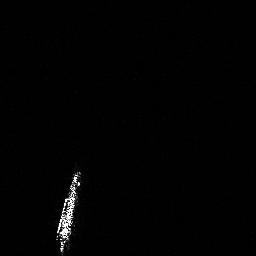ship: (51, 166, 87, 256)
